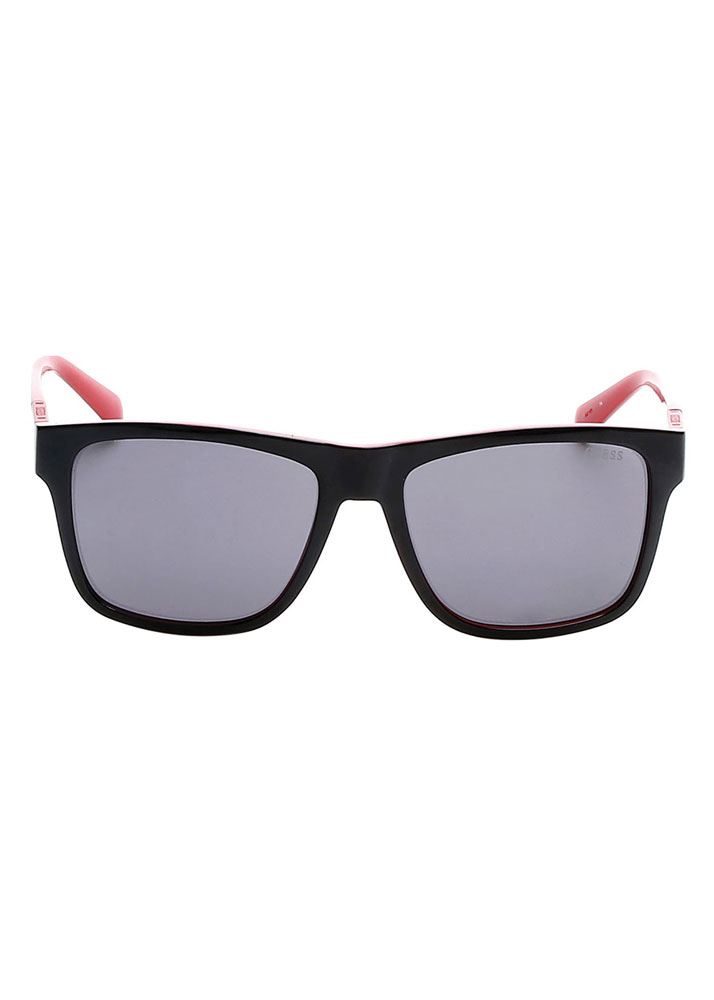Guess: (581, 439, 632, 467)
